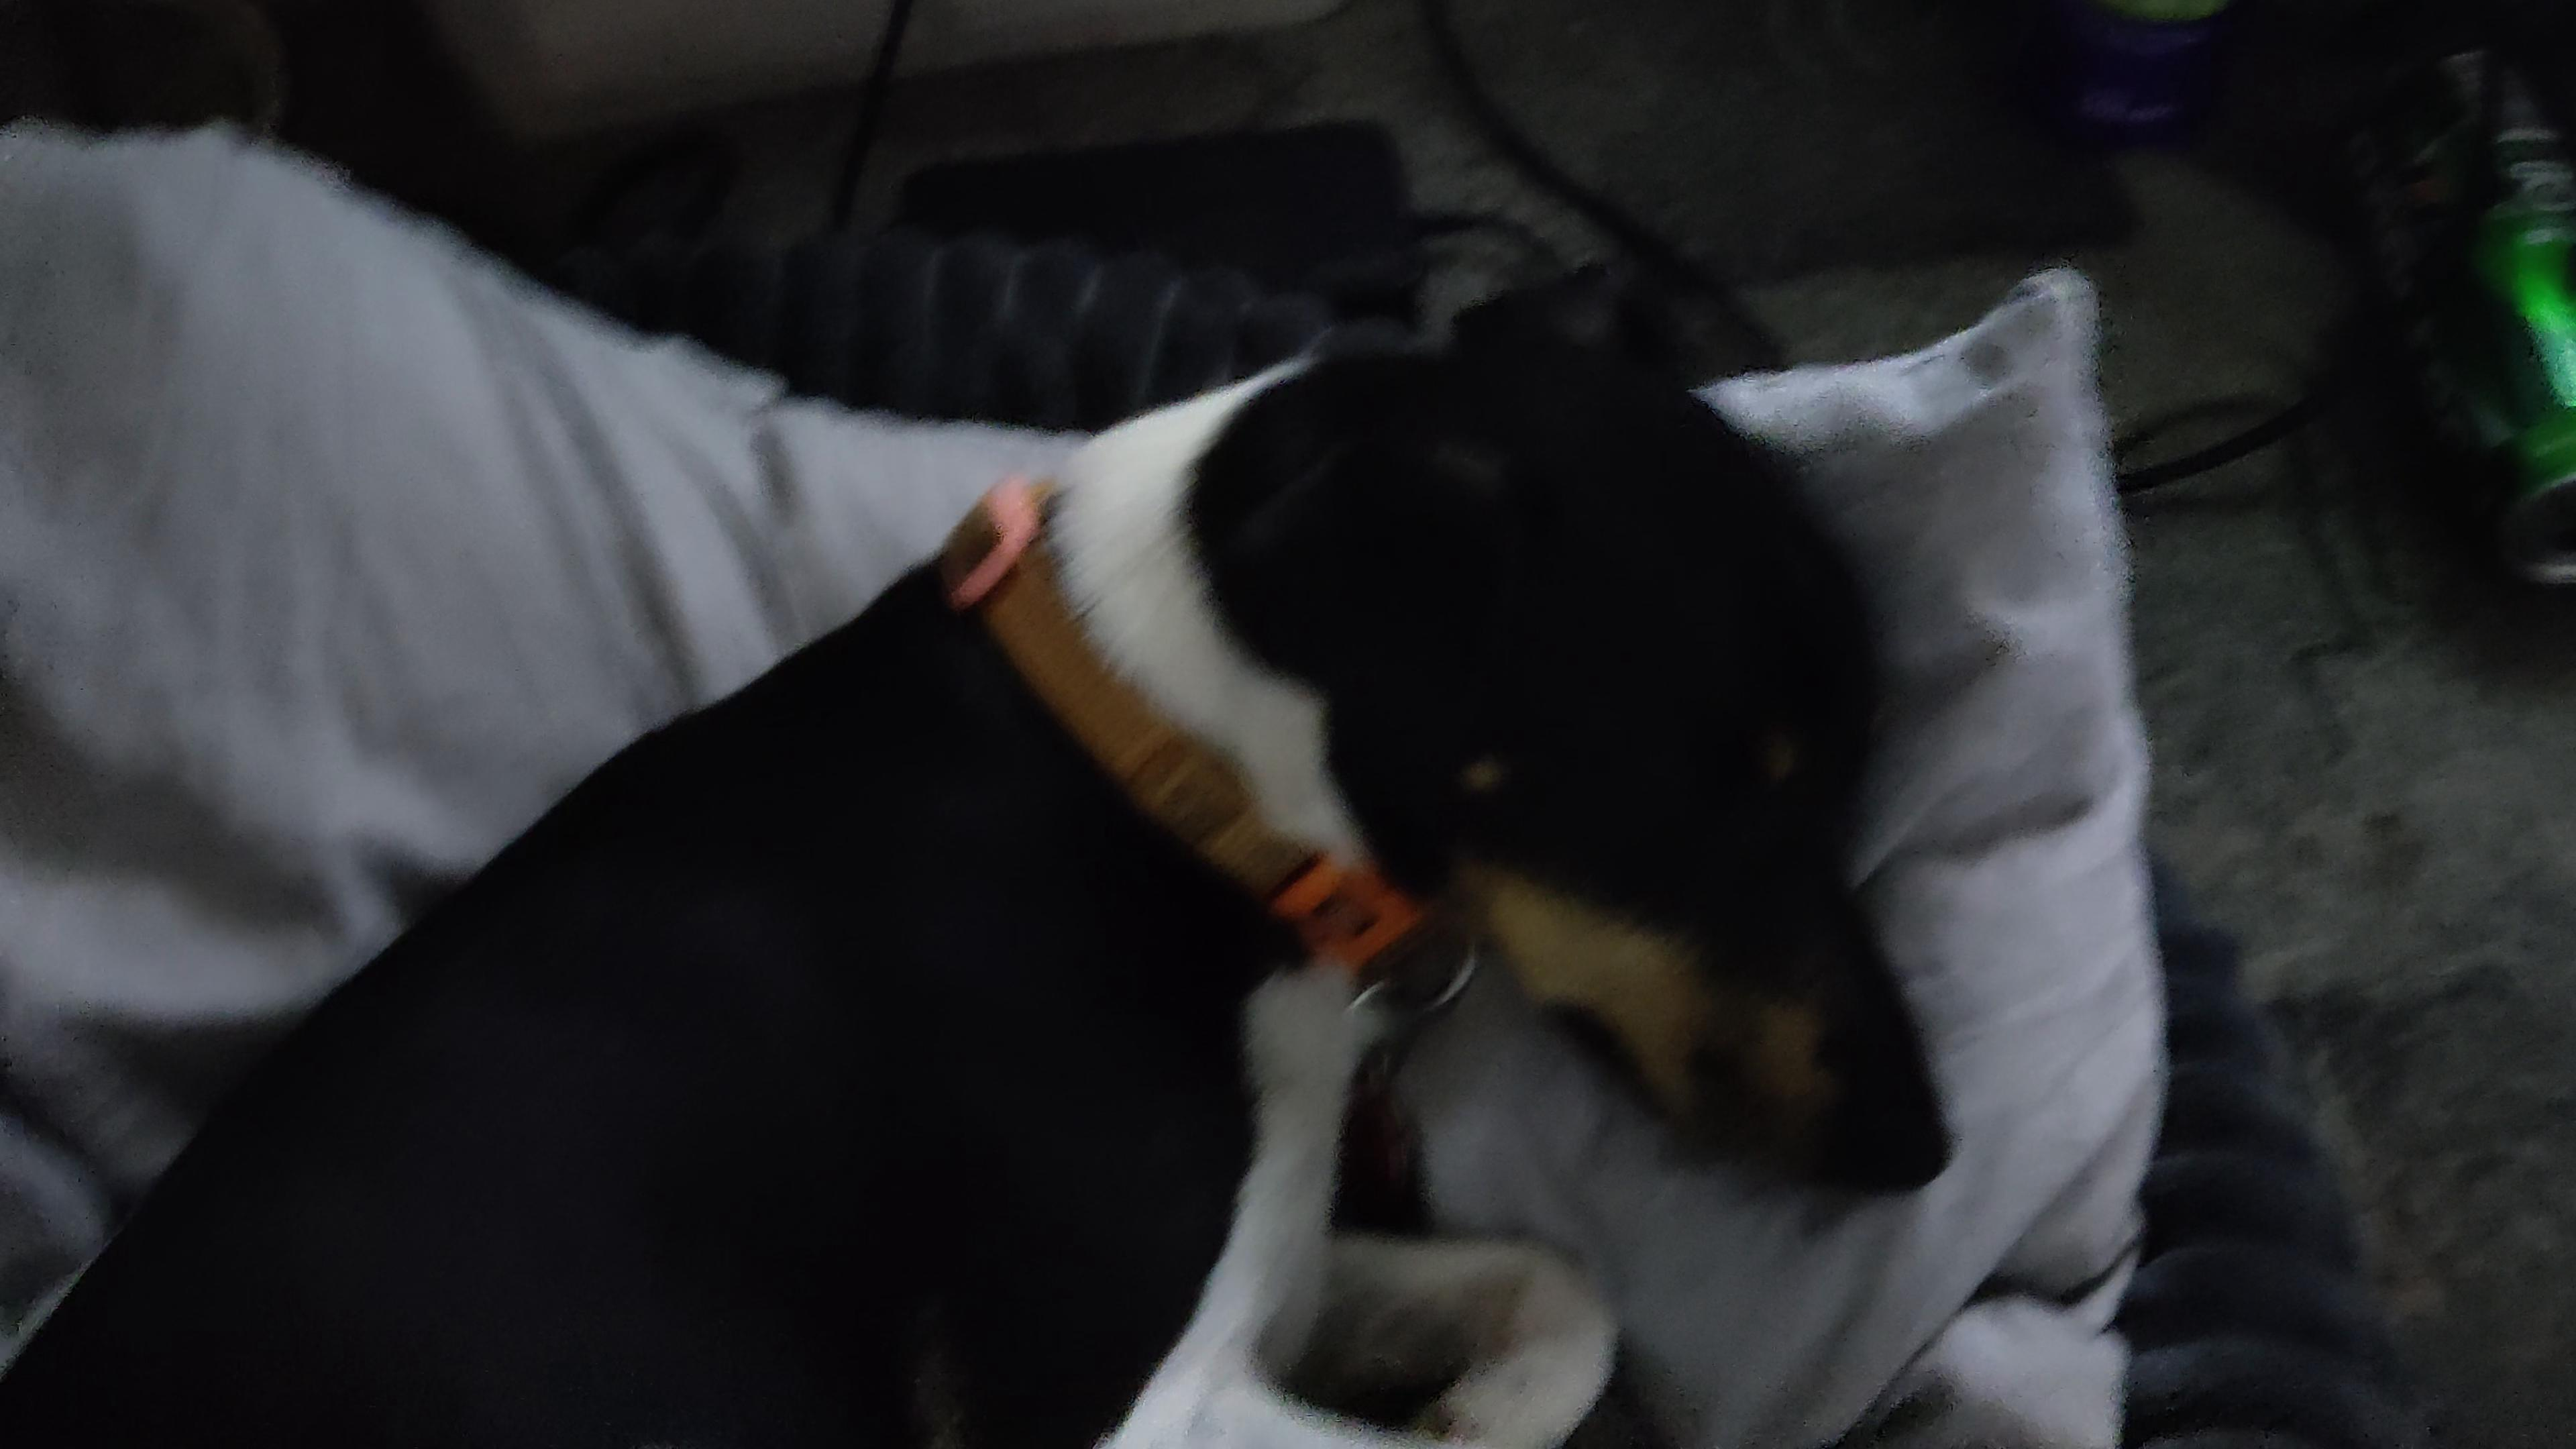Dog: (0, 235, 1989, 1449)
